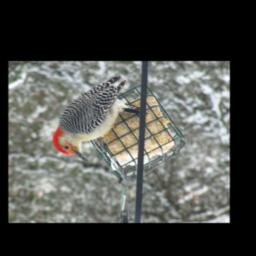Woodpecker: (52, 75, 144, 160)
